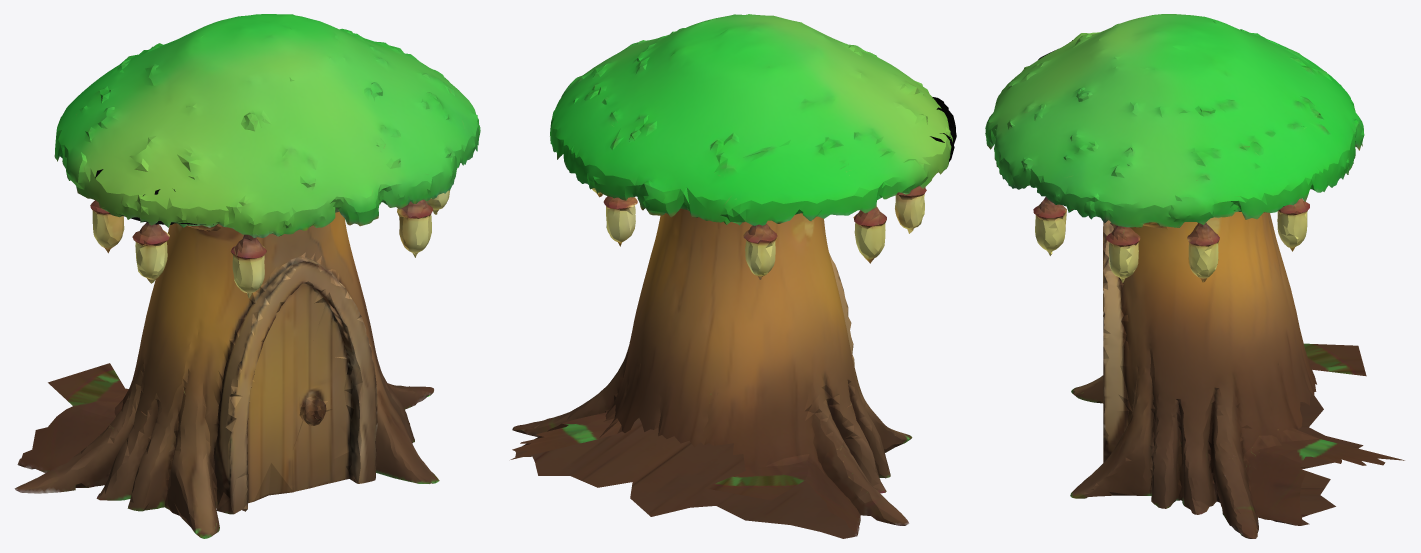
The model's file is Home_Sylva.glb.
3 views of the same model, side by side, from view 1: azimuth 30°, elevation 25°; view 2: azimuth 150°, elevation 25°; view 3: azimuth 270°, elevation 25° (orthographic). The views are drawn at different scales.
Parts seen in each view (by area): view 1: Home_Sylva; view 2: Home_Sylva; view 3: Home_Sylva.
Boxes of the visible parts, bbox=[...] form: Home_Sylva: bbox=[14, 14, 480, 538]; Home_Sylva: bbox=[510, 14, 952, 538]; Home_Sylva: bbox=[985, 14, 1404, 538].
Size of the model in its own units: 3.1 by 3.1 by 2.88.
Materials: 2 (1 with a texture image).
